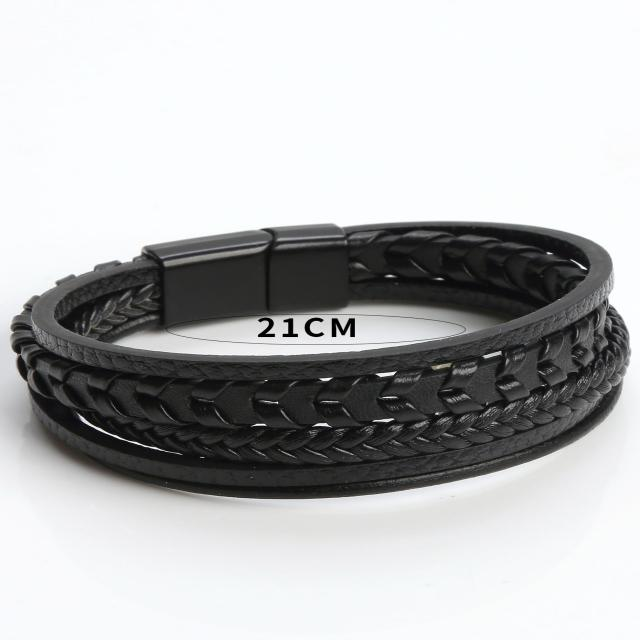bracelet: (0, 169, 640, 533)
